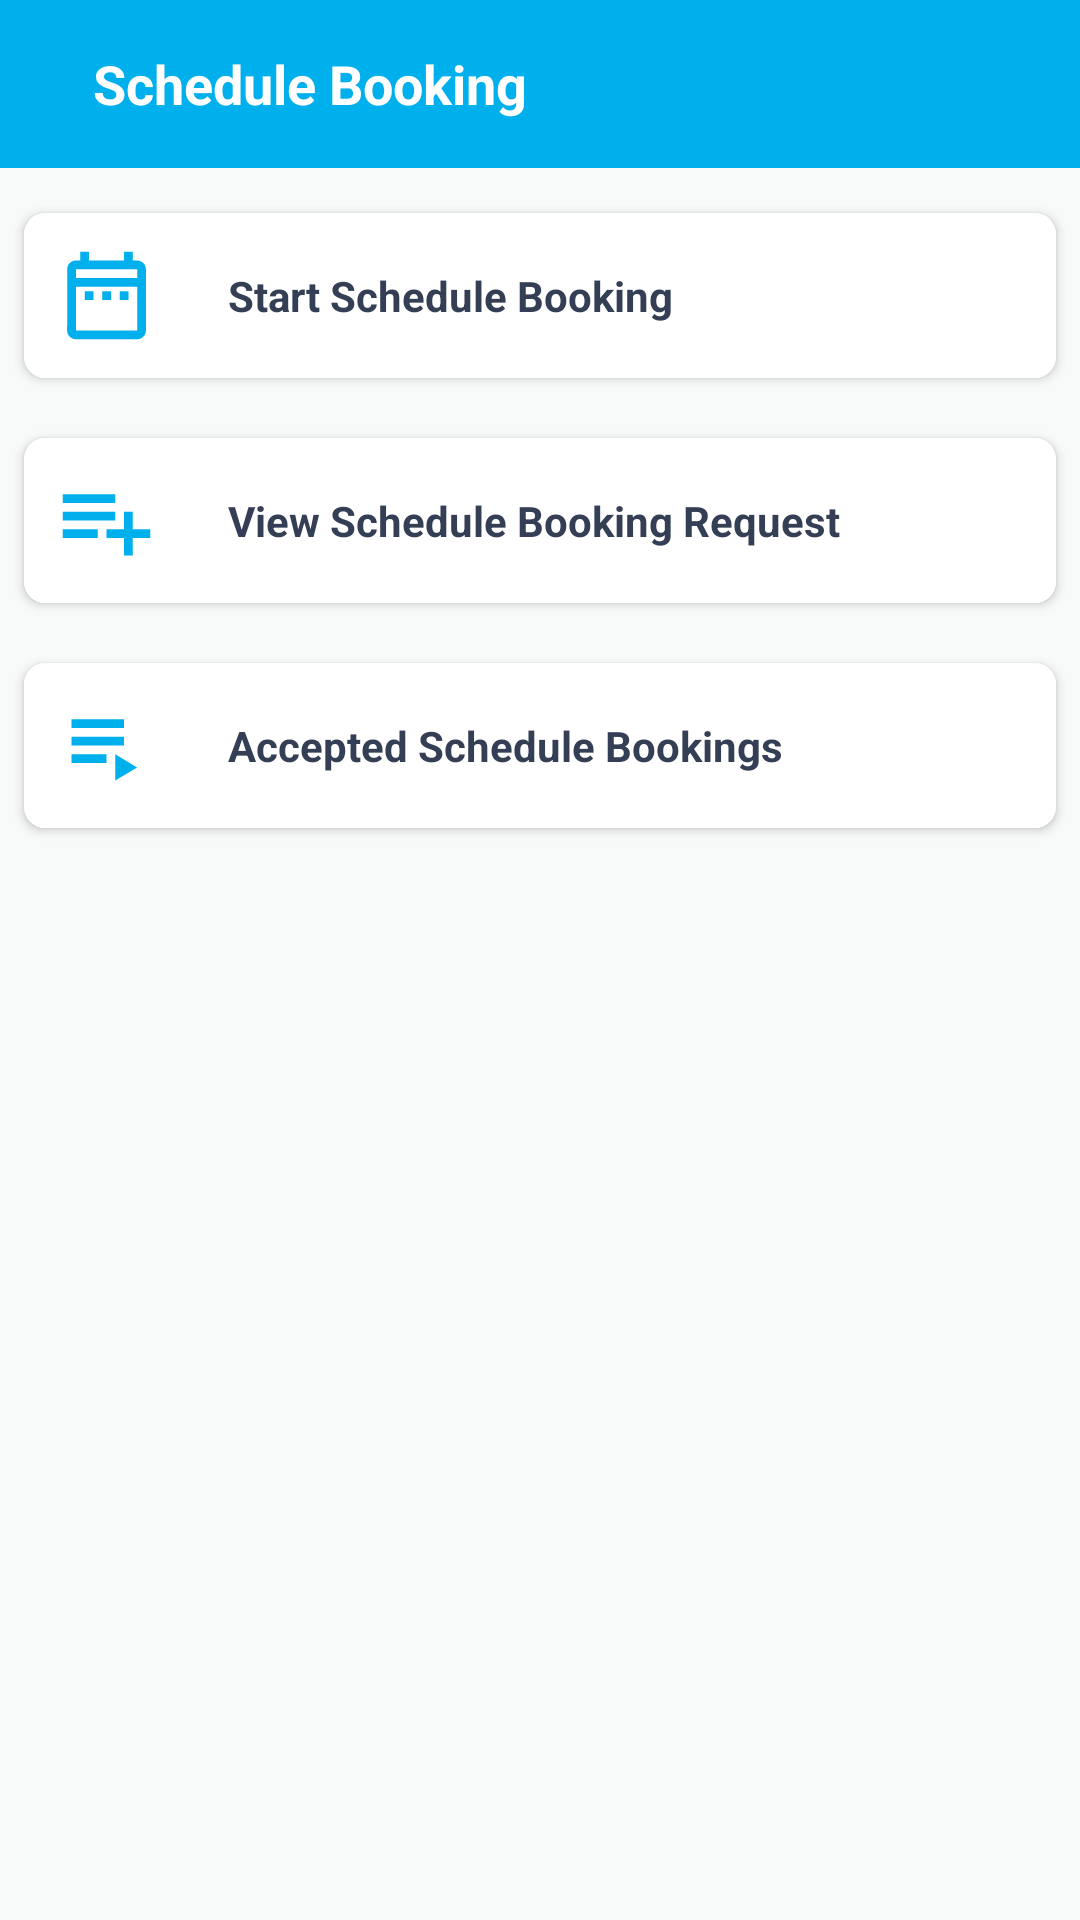

Named icons in this screenshot (1080 x 1920) and their bounding boxes, {"left": x1, "top": y1, "right": x2, "bottom": y2}:
date range: {"left": 67, "top": 251, "right": 146, "bottom": 340}
playlist add: {"left": 62, "top": 494, "right": 151, "bottom": 556}
playlist play: {"left": 71, "top": 719, "right": 137, "bottom": 781}
